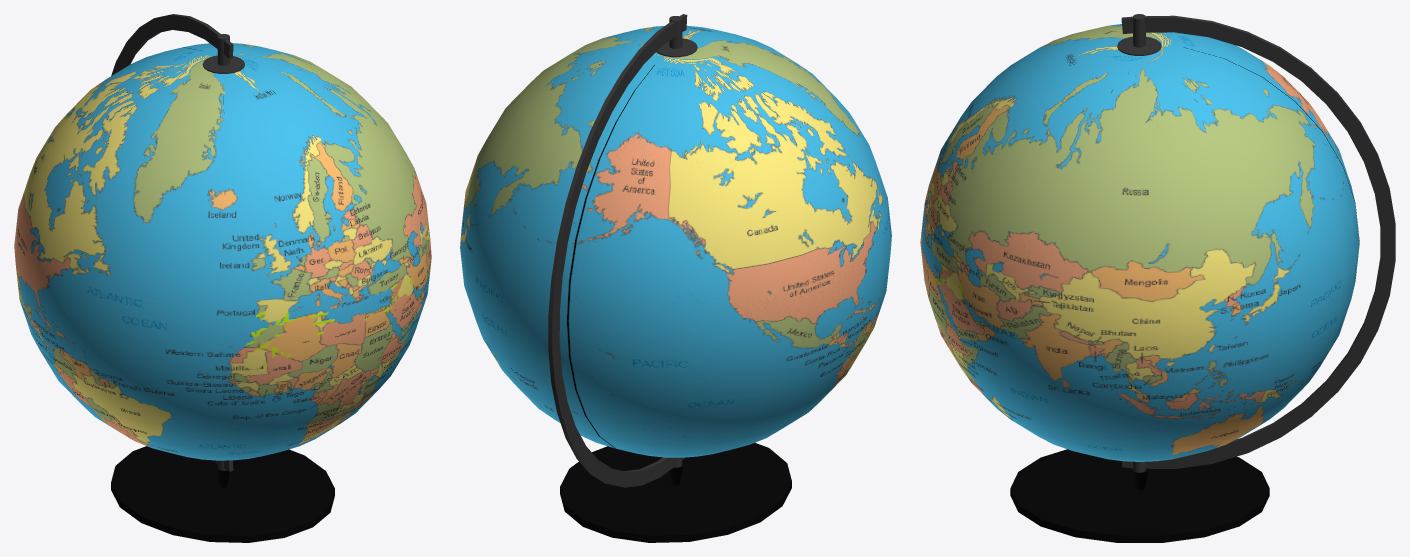
Rendered from Worldmap.FBX.
3 renders of one model, left to right at view 1: azimuth 30°, elevation 25°; view 2: azimuth 150°, elevation 25°; view 3: azimuth 270°, elevation 25°, orthographic. The views are drawn at different scales.
Parts seen in each view (by area): view 1: Sphere001, Cylinder019, Arc001; view 2: Sphere001, Cylinder019, Arc001; view 3: Sphere001, Cylinder019, Arc001.
Part boxes in pixels (x1=…): Sphere001: x1=14, y1=43, x2=431, y2=460; Cylinder019: x1=111, y1=446, x2=334, y2=542; Arc001: x1=111, y1=14, x2=244, y2=471; Sphere001: x1=460, y1=25, x2=891, y2=457; Cylinder019: x1=560, y1=443, x2=791, y2=542; Arc001: x1=548, y1=14, x2=697, y2=487; Sphere001: x1=920, y1=24, x2=1359, y2=461; Cylinder019: x1=1010, y1=449, x2=1269, y2=542; Arc001: x1=1117, y1=14, x2=1395, y2=472.
Size of the model in its own units: 613 by 737 by 663.
Materials: 3 (1 with a texture image).
